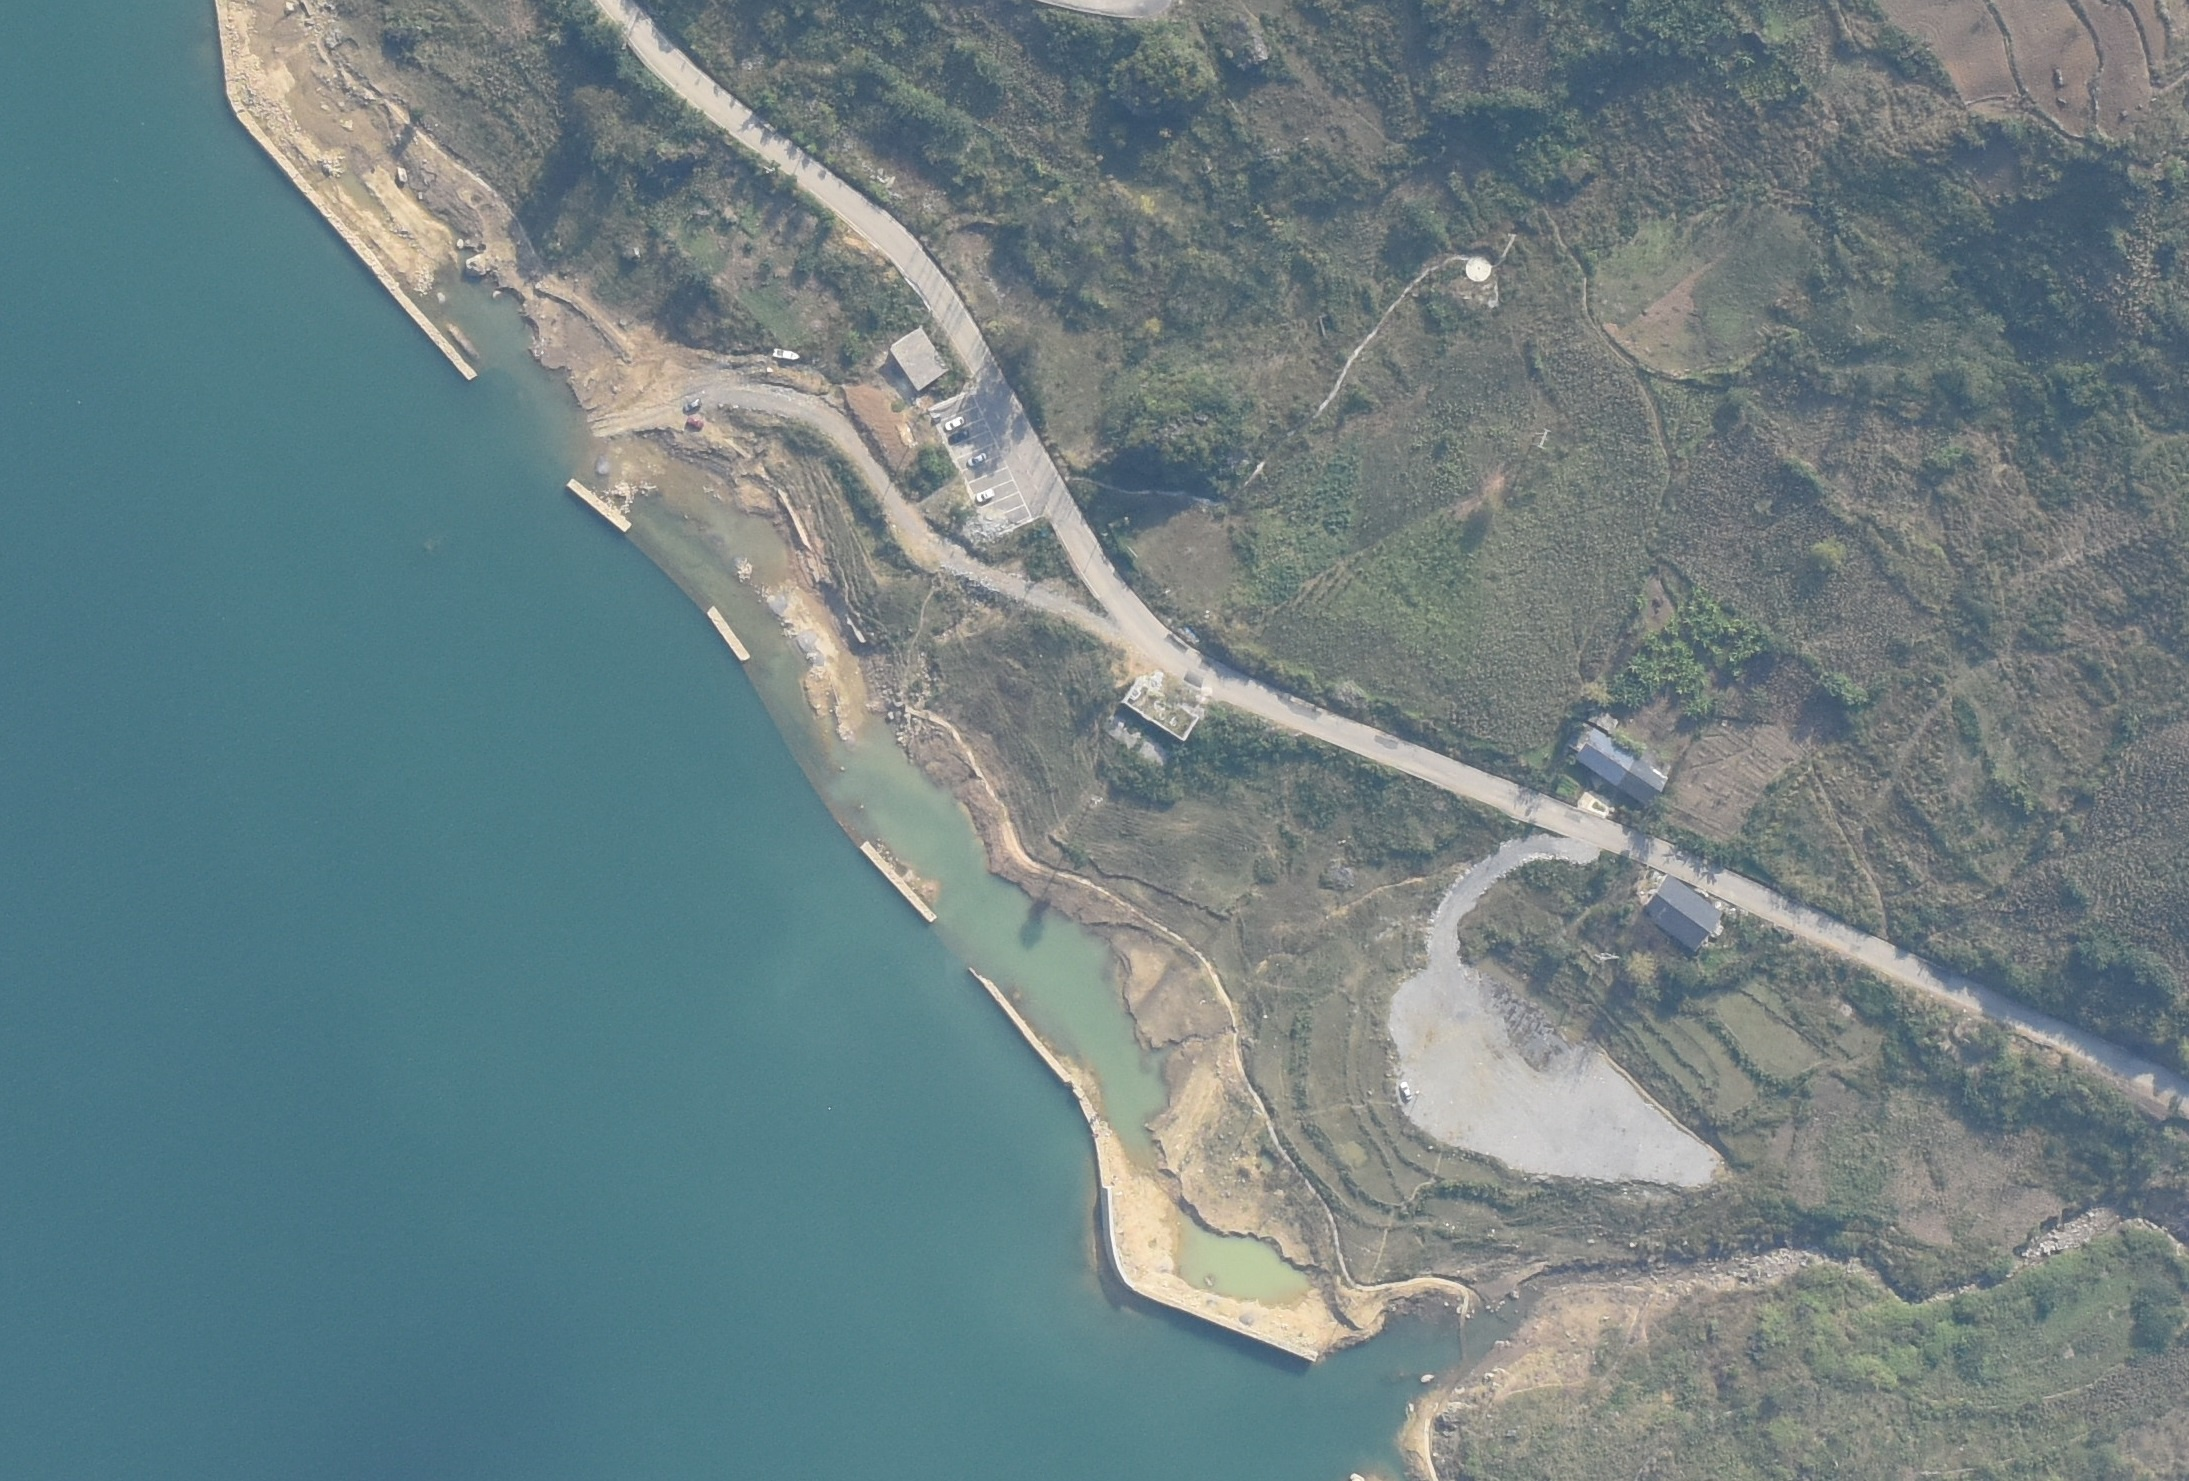building: (1571, 722, 1668, 811), (1640, 873, 1721, 955), (1121, 675, 1201, 740), (889, 328, 950, 392), (1583, 702, 1620, 734)
cable-tower: (1532, 426, 1557, 452)
pool: (1172, 1205, 1317, 1305)
ship: (773, 348, 800, 361)
vehicle: (976, 487, 997, 504), (948, 428, 971, 443), (1397, 1081, 1413, 1101), (945, 416, 965, 431), (968, 453, 988, 468), (683, 398, 701, 414), (685, 416, 705, 429)
well: (1464, 253, 1493, 282)
